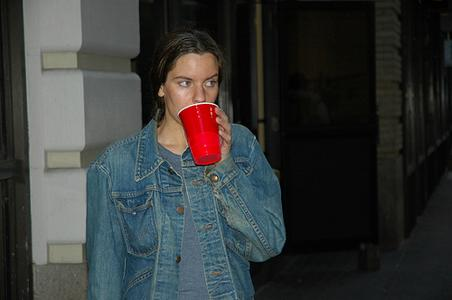person: (84, 27, 288, 300)
